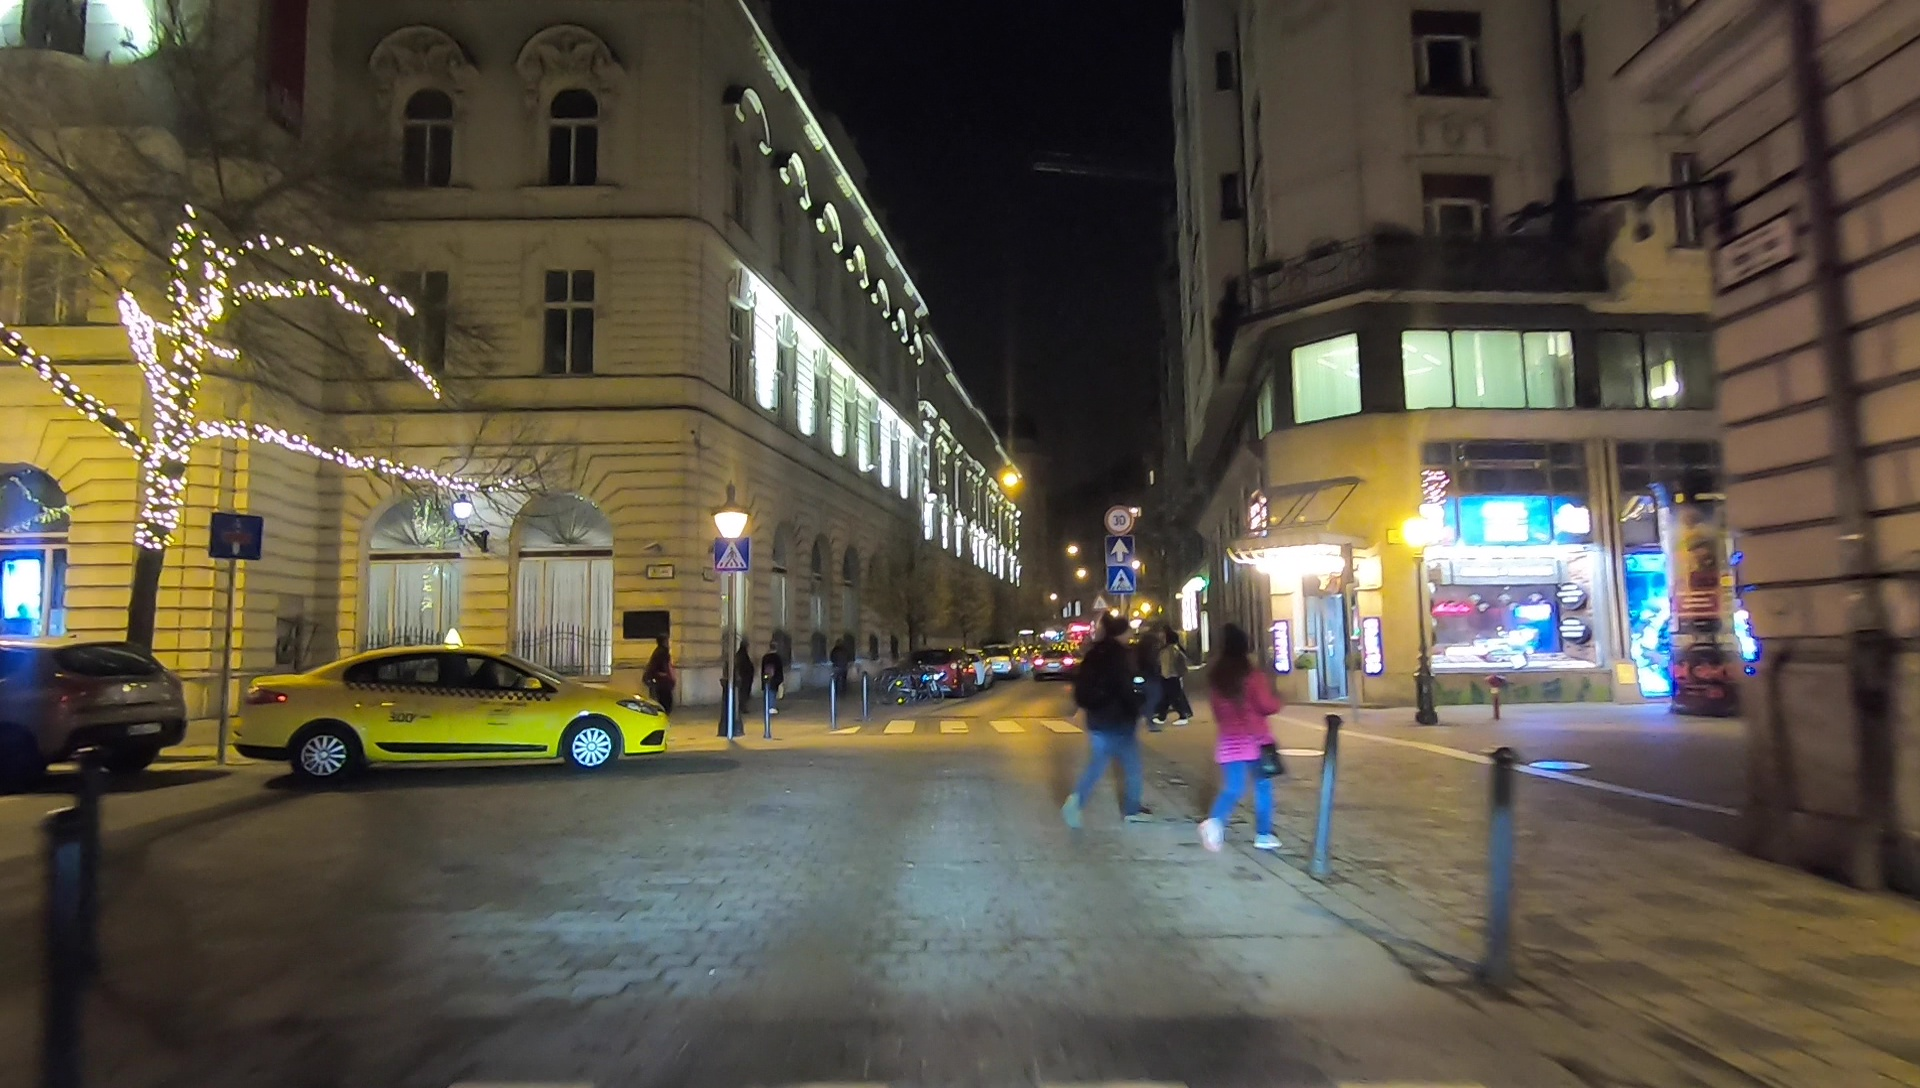person: (1069, 621, 1156, 824), (1201, 632, 1278, 852), (1156, 630, 1197, 726), (649, 636, 676, 724), (732, 639, 756, 711), (760, 639, 780, 704), (830, 641, 847, 695)
